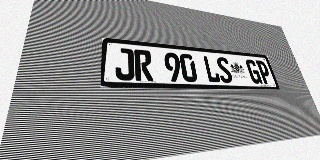0: (179, 53, 198, 82)
9: (163, 52, 183, 82)
G: (245, 59, 263, 84)
J: (115, 47, 135, 81)
L: (202, 55, 221, 83)
P: (255, 60, 273, 84)
R: (134, 49, 153, 81)
S: (215, 56, 234, 83)
